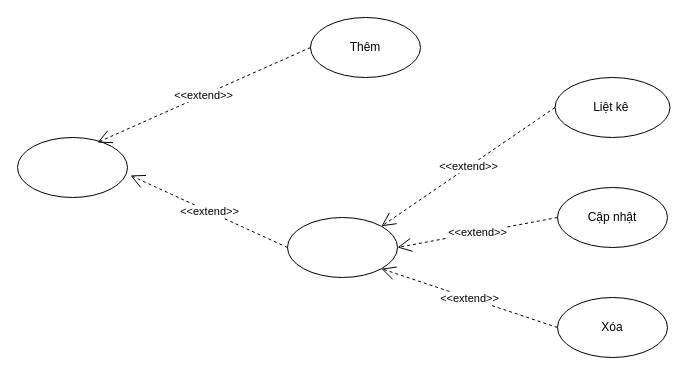
The diagram is 688 pixels wide and 375 high, and some of its shapes have lost their labels. The centre of each missing label's shape, as x and y in pixels:
Quản lý kho phim: [72,167]
Tìm kiếm: [342,247]
